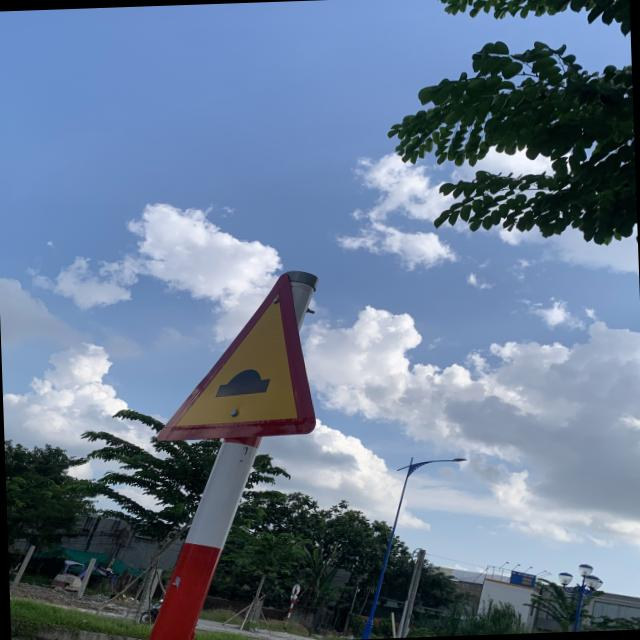Duong_Cong_Ben_Phai: (148, 268, 314, 442)
